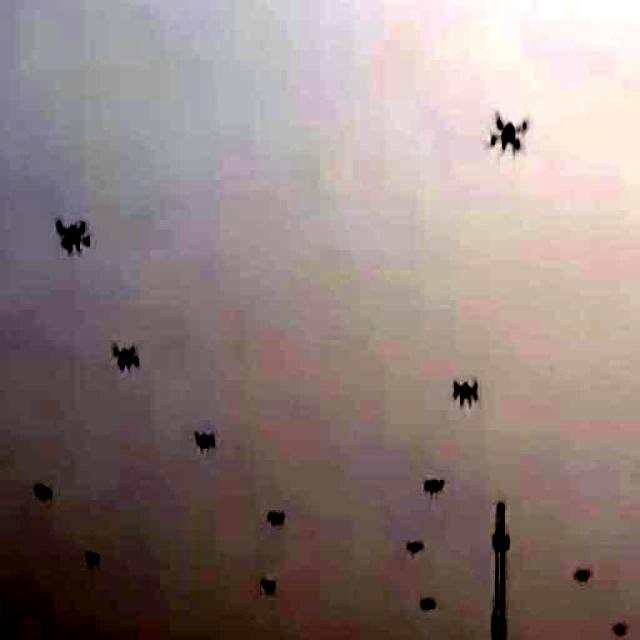bird: (486, 106, 526, 158), (55, 215, 95, 264), (452, 368, 480, 409), (424, 461, 446, 496), (116, 341, 136, 374)
